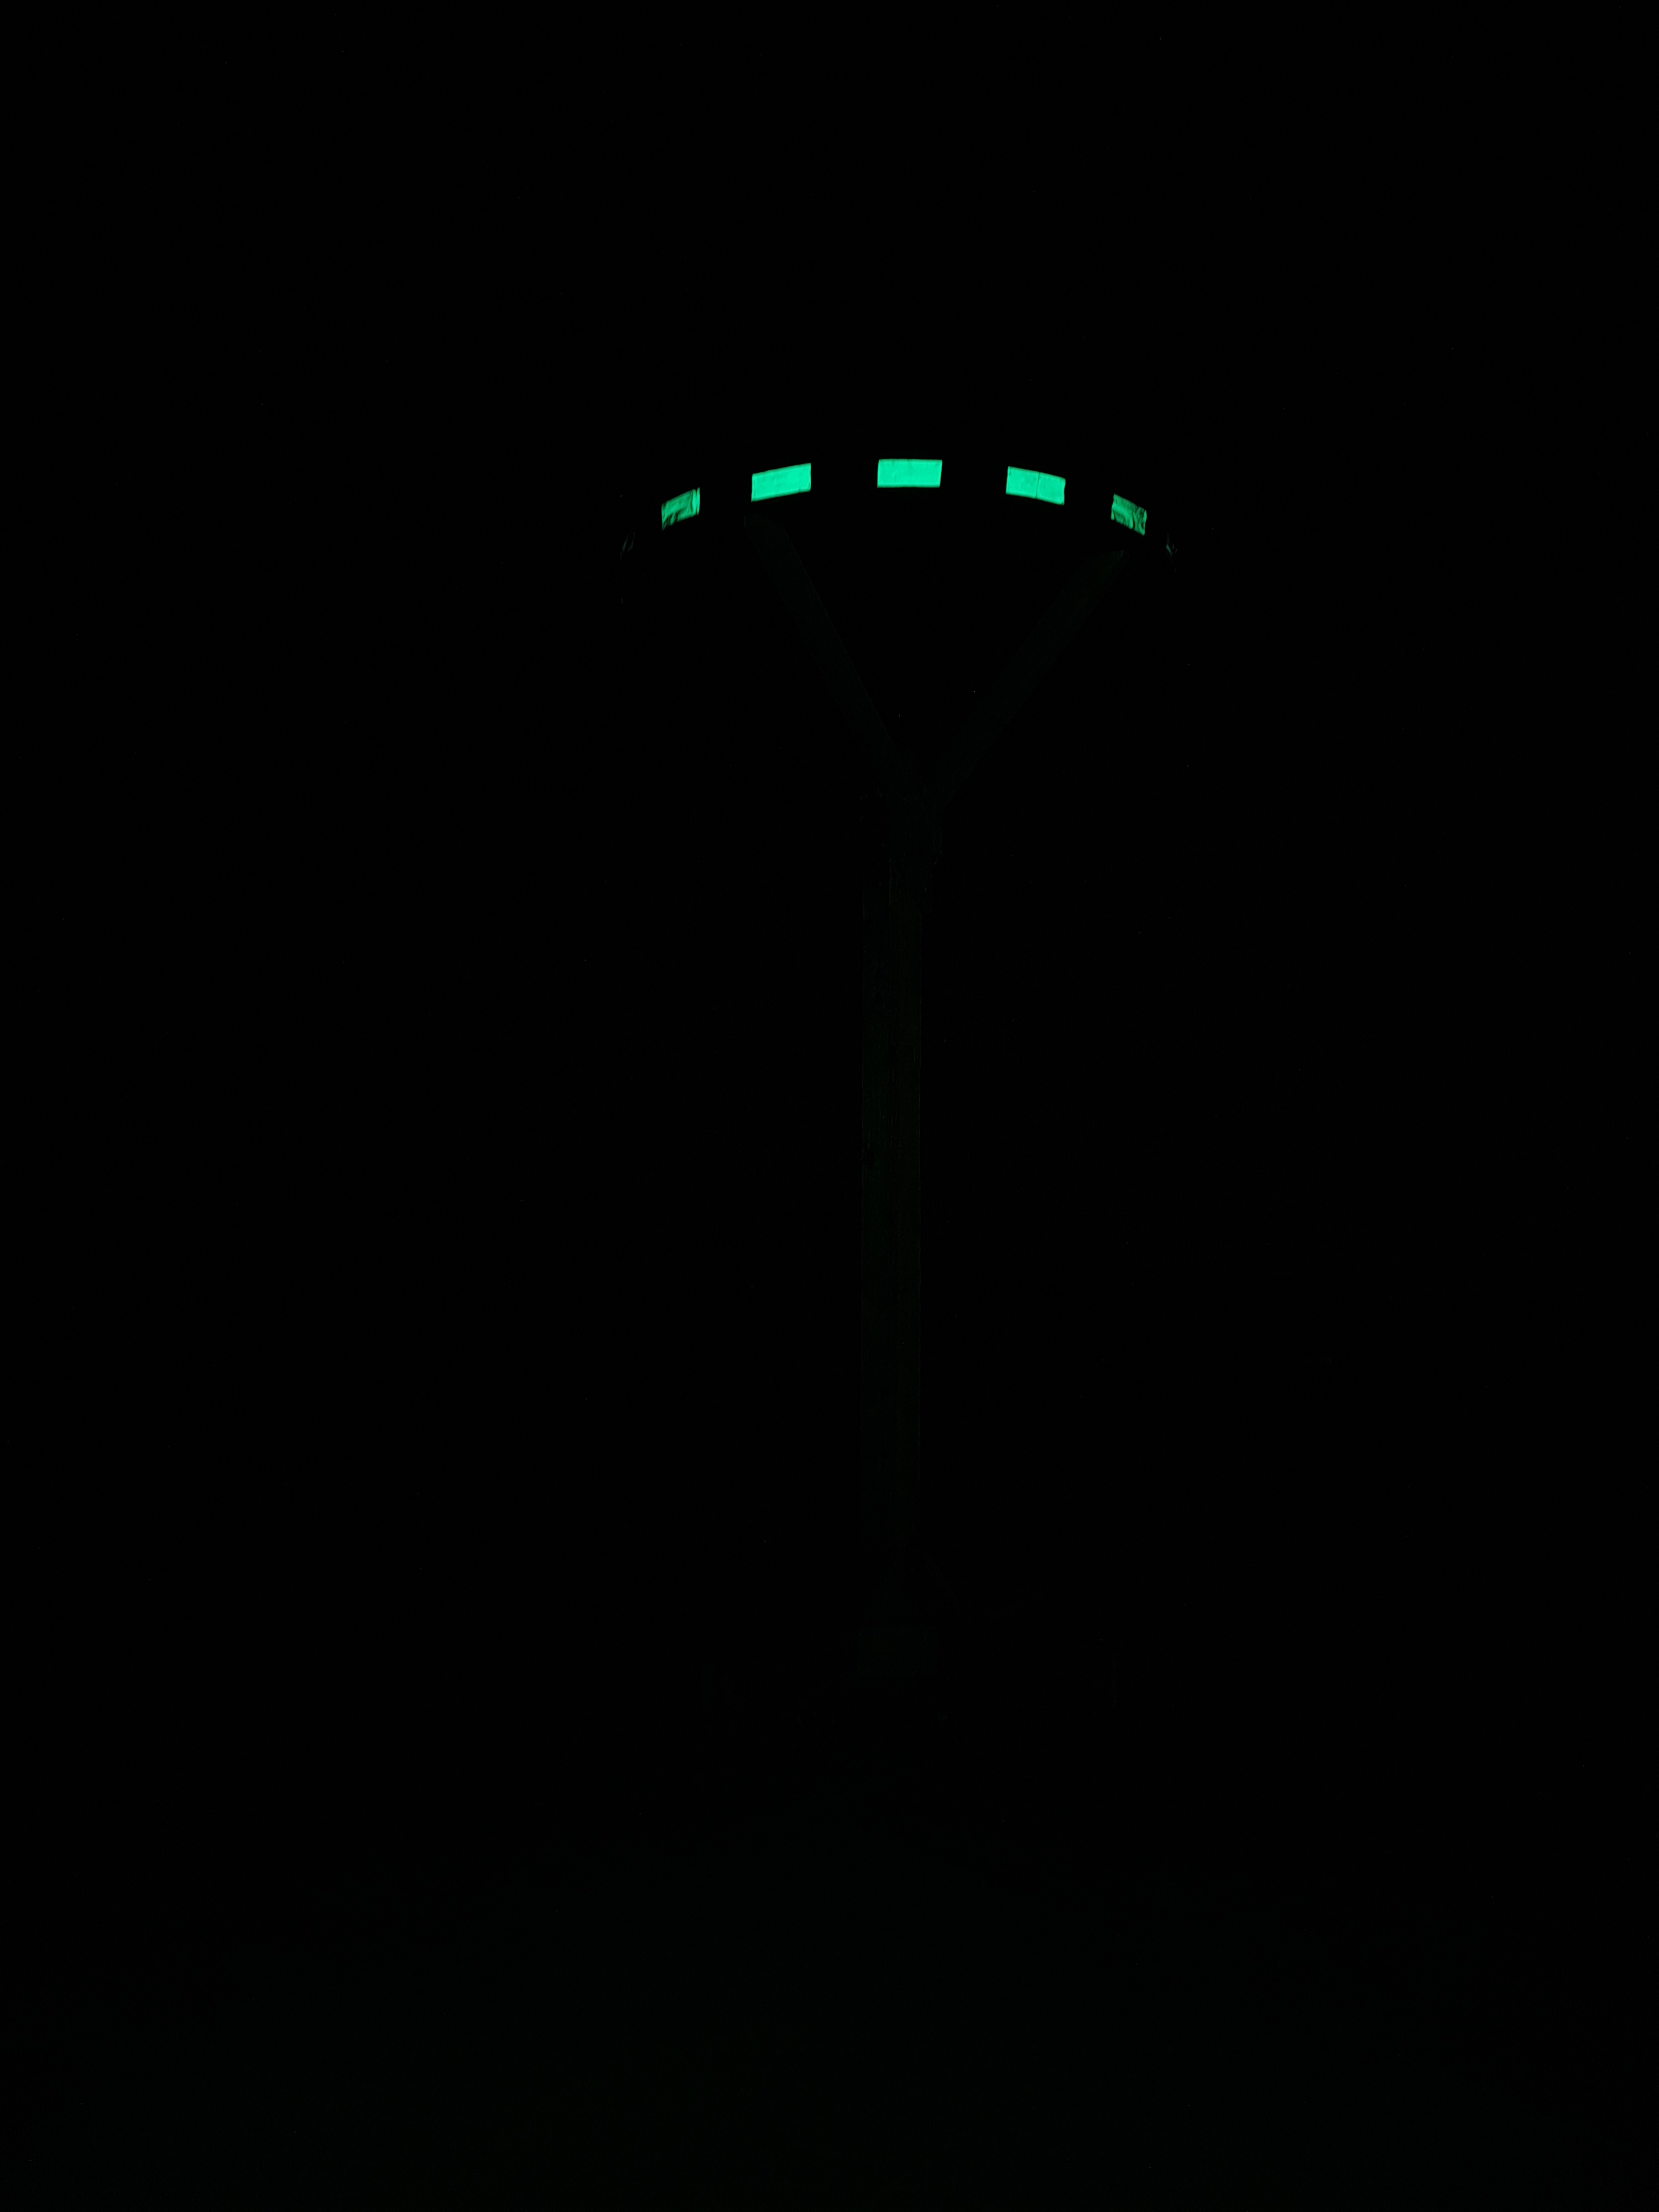hoop: (648, 455, 1155, 543)
